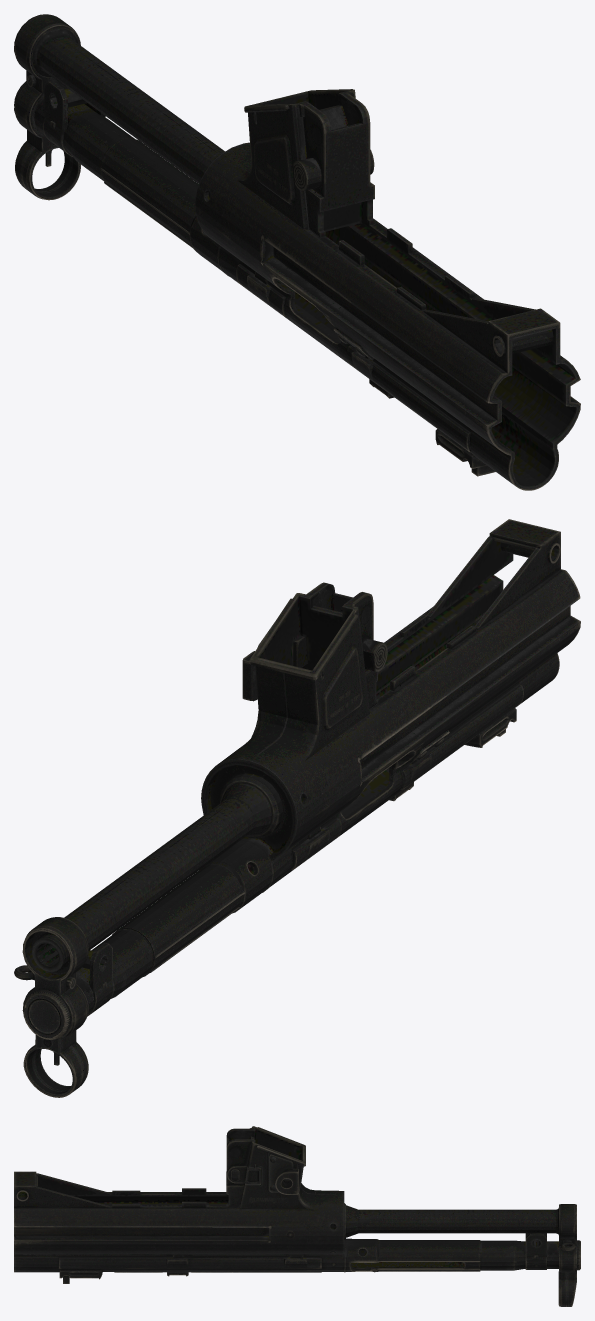
The picture shows the model from 3 angles, top to bottom: view 1: azimuth 30°, elevation 25°; view 2: azimuth 150°, elevation 25°; view 3: azimuth 270°, elevation 25°; orthographic projection. The views are drawn at different scales.
Parts seen in each view (by area): view 1: TW_5926c0df86f77462f647f764_PZ_Import; view 2: TW_5926c0df86f77462f647f764_PZ_Import; view 3: TW_5926c0df86f77462f647f764_PZ_Import.
Boxes of the visible parts, box(x1,y1,x2,y2) form: TW_5926c0df86f77462f647f764_PZ_Import: box(14, 14, 580, 490); TW_5926c0df86f77462f647f764_PZ_Import: box(14, 519, 580, 1097); TW_5926c0df86f77462f647f764_PZ_Import: box(14, 1126, 580, 1306).
Size of the model in its own units: 0.0232 by 0.2004 by 0.0664.
1 material, 1 textured.
